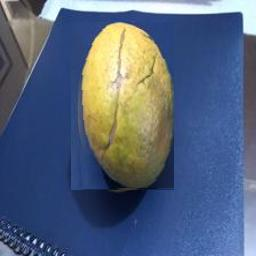Orange Semirotten: (72, 23, 175, 191)
